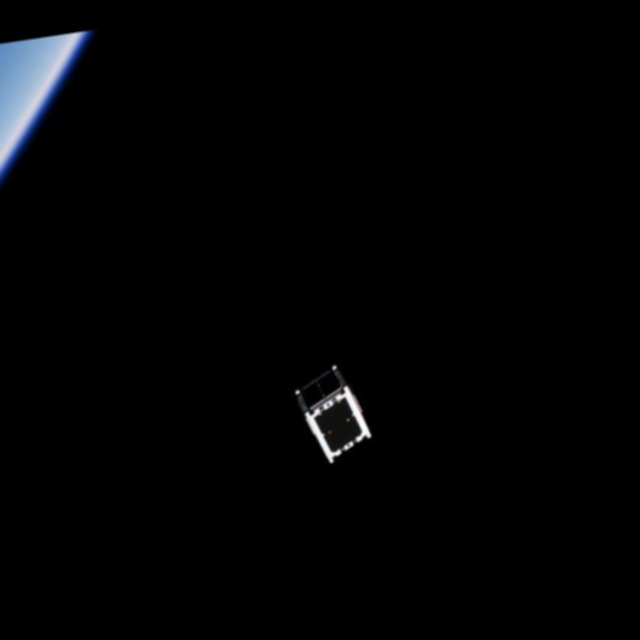satellite: (291, 355, 374, 464)
